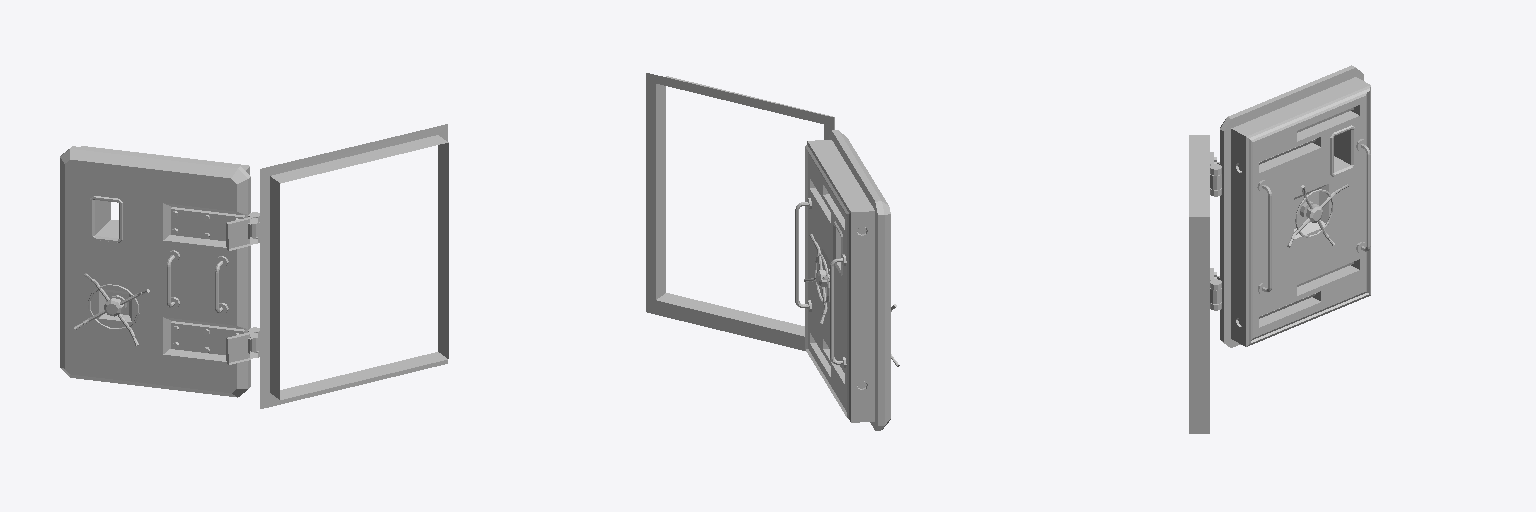
File: door_bunker.obj
3 views of the same model, side by side, from view 1: azimuth 30°, elevation 25°; view 2: azimuth 150°, elevation 25°; view 3: azimuth 270°, elevation 25° (orthographic).
Visible parts, largest first — view 1: 0; view 2: 0; view 3: 0.
Boxes of the visible parts, x1,y1,x2,y2 form: 0: [60, 124, 448, 408]; 0: [646, 73, 899, 430]; 0: [1189, 65, 1370, 433].
Size of the model in its own units: 3.72 by 2.73 by 1.87.